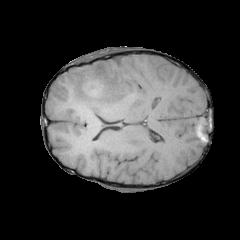glioma: (70, 62, 135, 127)
